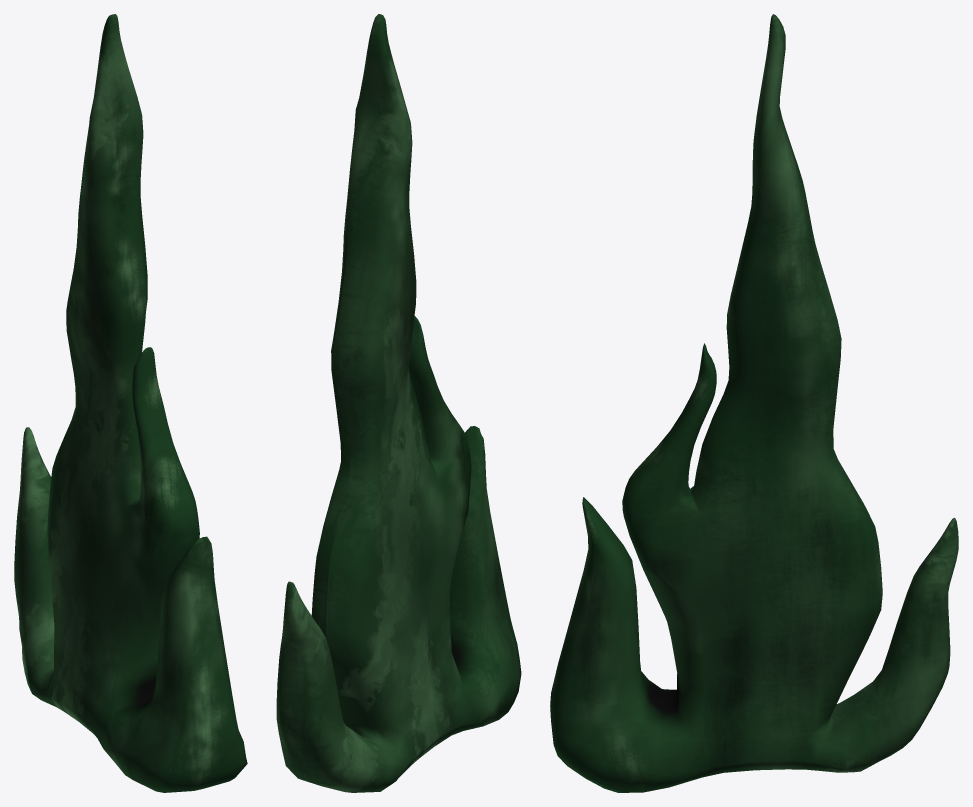
Rendered from ARBOL 1.fbx.
3 views of the same model, side by side, from view 1: azimuth 30°, elevation 25°; view 2: azimuth 150°, elevation 25°; view 3: azimuth 270°, elevation 25° (orthographic). The views are drawn at different scales.
Parts seen in each view (by area): view 1: Plane.001; view 2: Plane.001; view 3: Plane.001.
Part boxes in pixels (x1=…): Plane.001: x1=14, y1=14, x2=247, y2=792; Plane.001: x1=276, y1=14, x2=521, y2=792; Plane.001: x1=550, y1=14, x2=958, y2=792.
Size of the model in its own units: 12.02 by 79.45 by 38.57.
1 material, 1 textured.
